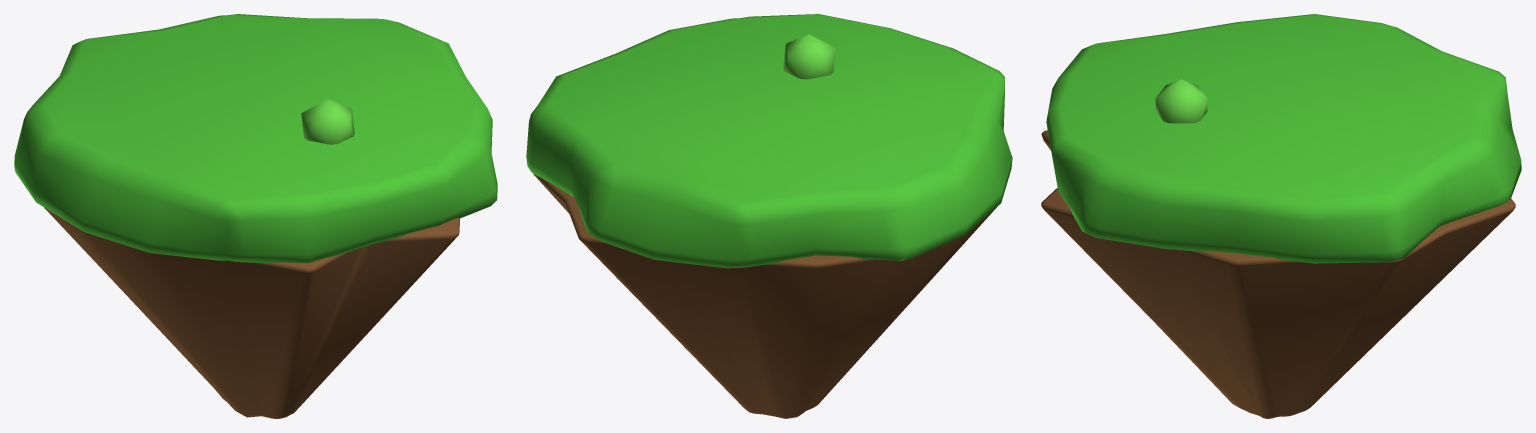
Rendered from island_b.glb.
3 renders of one model, left to right at view 1: azimuth 30°, elevation 25°; view 2: azimuth 150°, elevation 25°; view 3: azimuth 270°, elevation 25°, orthographic.
Parts seen in each view (by area): view 1: island_b; view 2: island_b; view 3: island_b.
Part boxes in pixels (box(x1,y1,x2,y2)): island_b: box(14, 14, 497, 418); island_b: box(526, 14, 1012, 418); island_b: box(1041, 14, 1521, 418).
Bounding box in the file's own units: 1.6 × 1.23 × 1.6.
